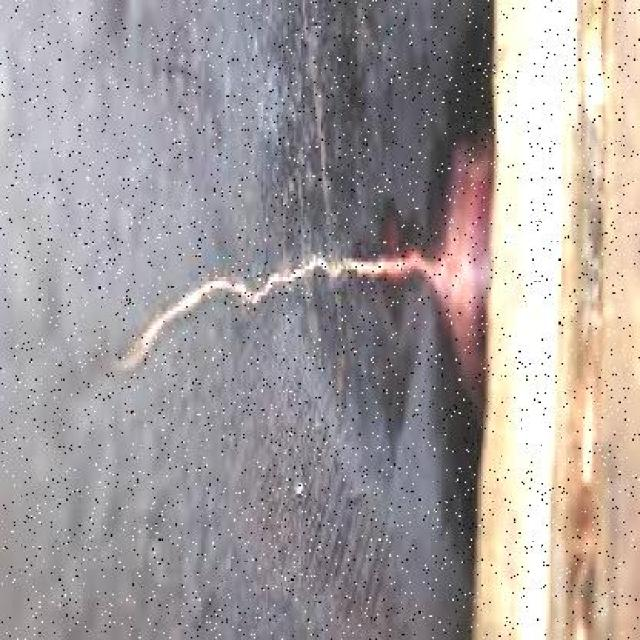Defect: (113, 209, 458, 382)
